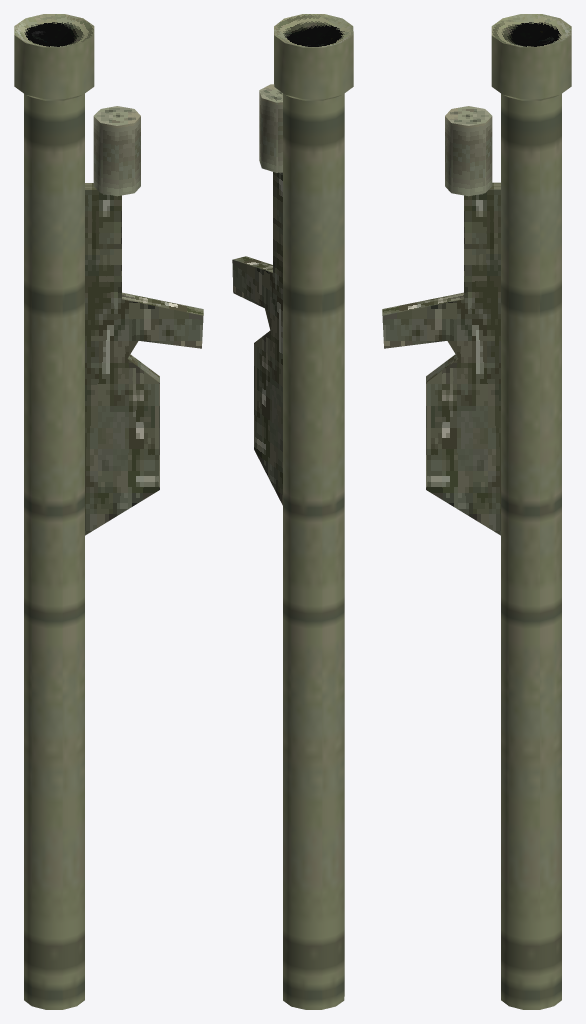
Rendered from AA02_SA7Grail.glb.
The picture shows the model from 3 angles, left to right: view 1: azimuth 90°, elevation 25°; view 2: azimuth 210°, elevation 25°; view 3: azimuth 270°, elevation 25°; orthographic projection.
Parts seen in each view (by area): view 1: AA02_SA7GRAIL; view 2: AA02_SA7GRAIL; view 3: AA02_SA7GRAIL.
Part boxes in pixels (x1,y1,x2,y2): AA02_SA7GRAIL: (14,14,203,1009); AA02_SA7GRAIL: (232,14,353,1009); AA02_SA7GRAIL: (382,14,571,1009).
Bounding box in the file's own units: 0.1 × 1.35 × 0.239.
Materials: 3 (3 with a texture image).
